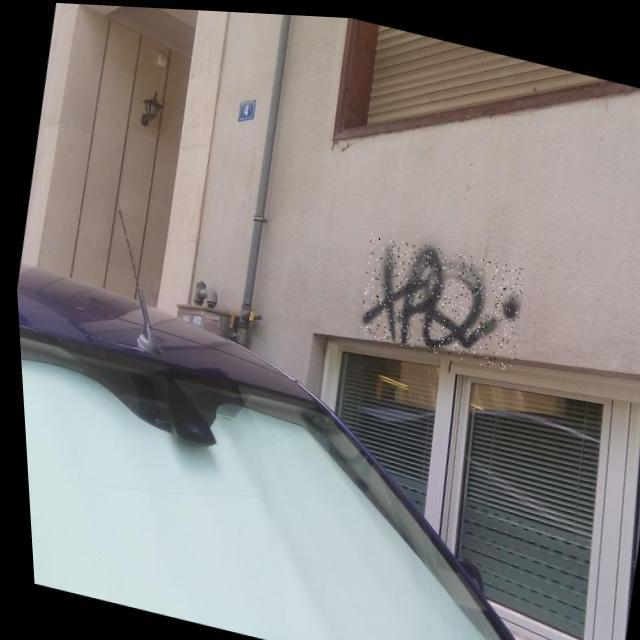-: (349, 228, 527, 368)
